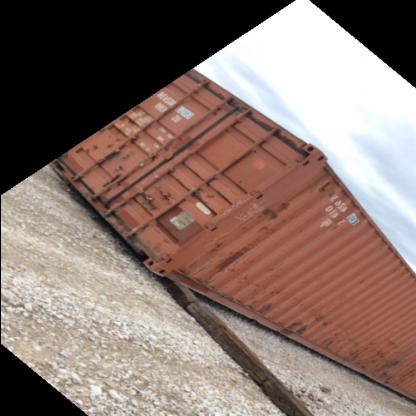Damage: (383, 327, 415, 400), (209, 240, 256, 288), (95, 176, 137, 216), (342, 334, 384, 372), (254, 201, 289, 236), (283, 314, 319, 348)
